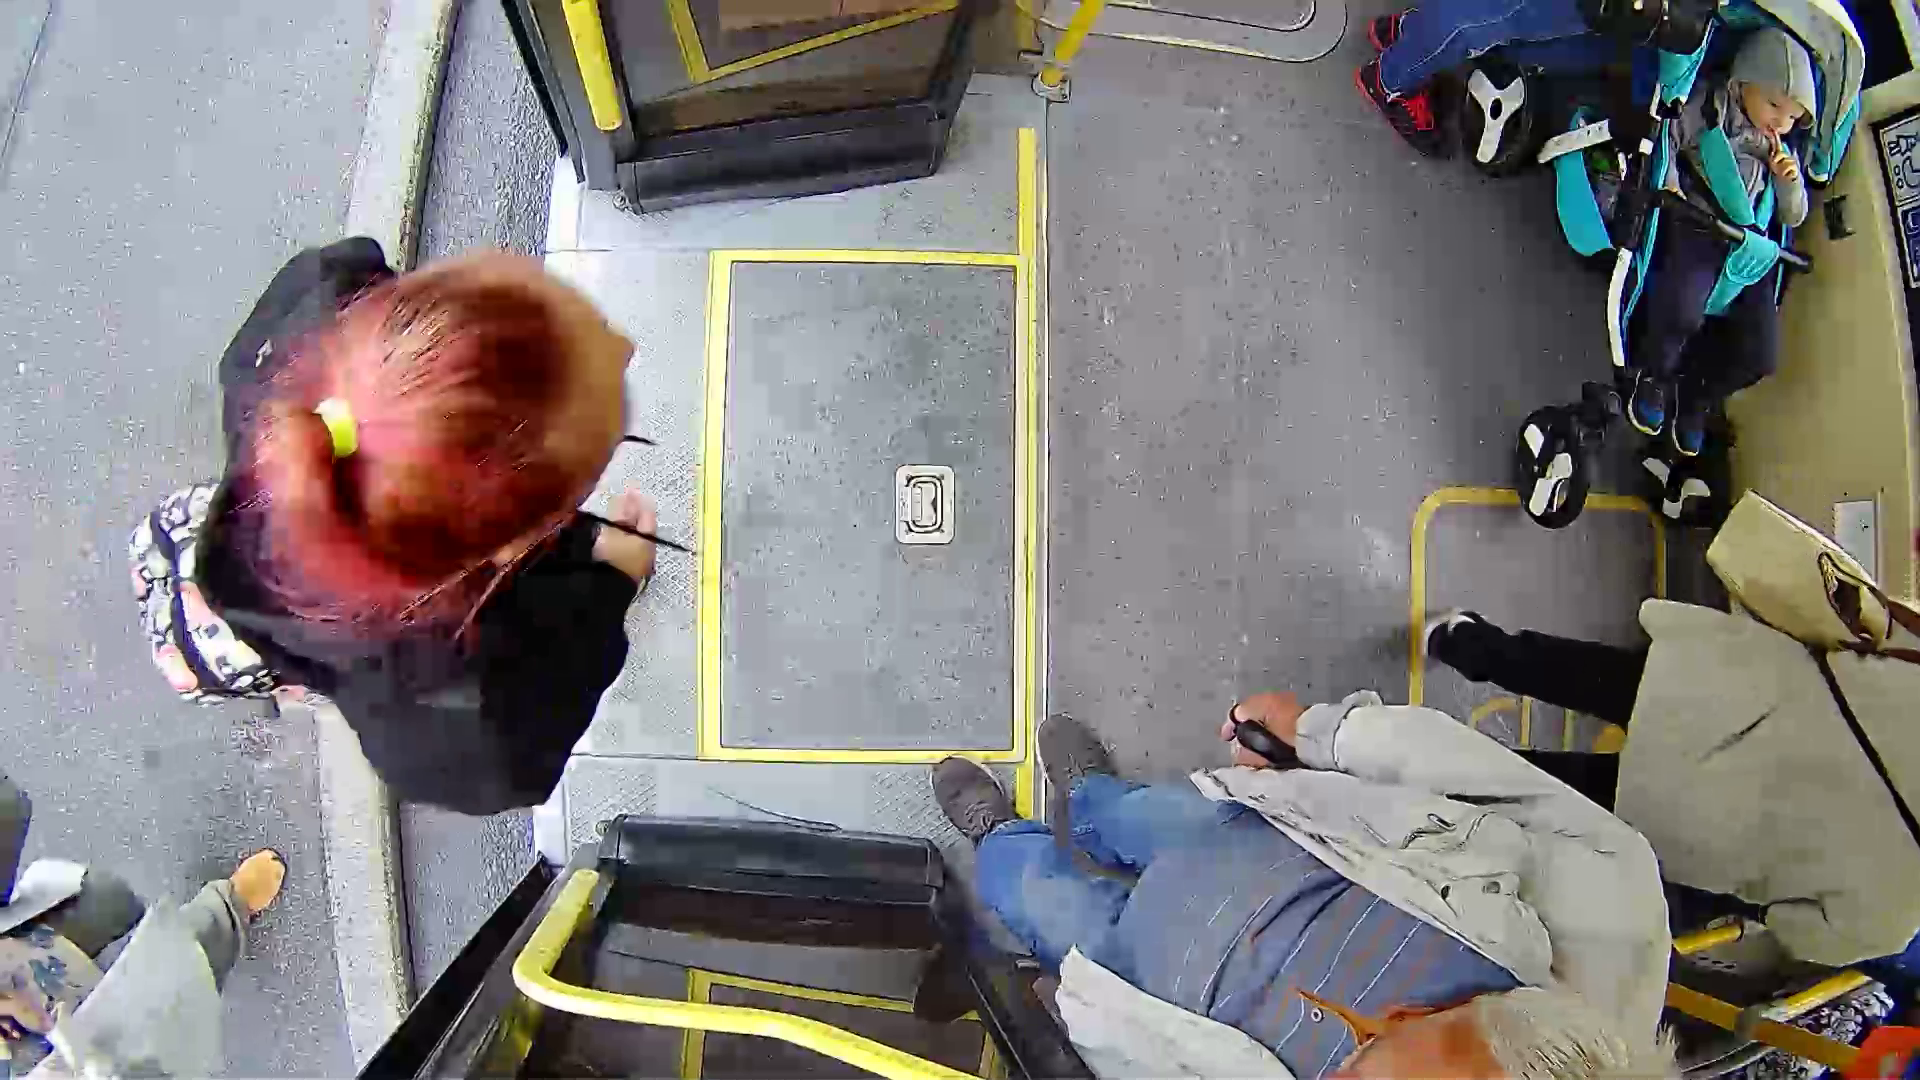person: (113, 244, 737, 788)
